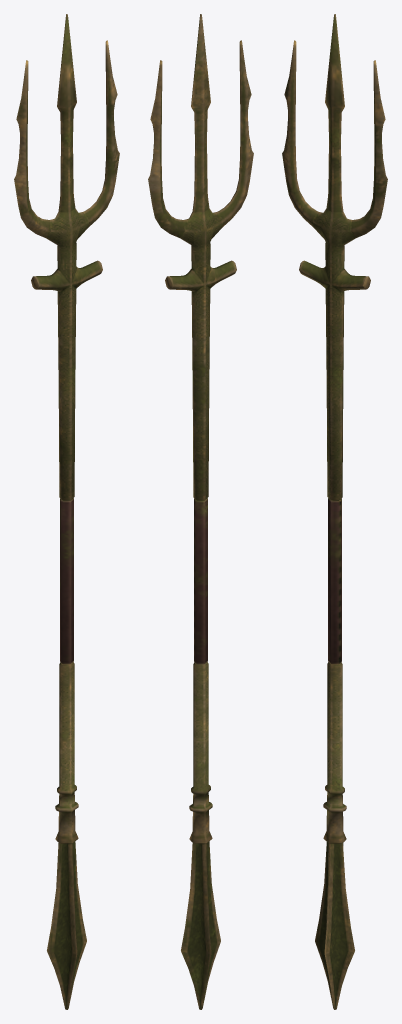
File: trident.glb
The picture shows the model from 3 angles, left to right: view 1: azimuth 30°, elevation 25°; view 2: azimuth 210°, elevation 25°; view 3: azimuth 330°, elevation 25°; orthographic projection.
Parts seen in each view (by area): view 1: Trident; view 2: Trident; view 3: Trident.
Boxes of the visible parts, x1=… form: Trident: x1=14, y1=14, x2=119, y2=1009; Trident: x1=148, y1=14, x2=253, y2=1009; Trident: x1=282, y1=14, x2=387, y2=1009.
Bounding box in the file's own units: 0.1113 × 1 × 0.0381.
1 material, 1 textured.
